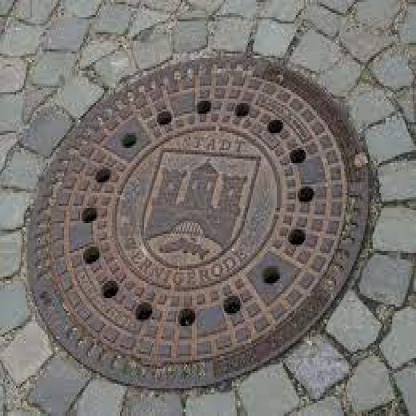closed manhole-not overflowing-: (20, 57, 365, 384)
